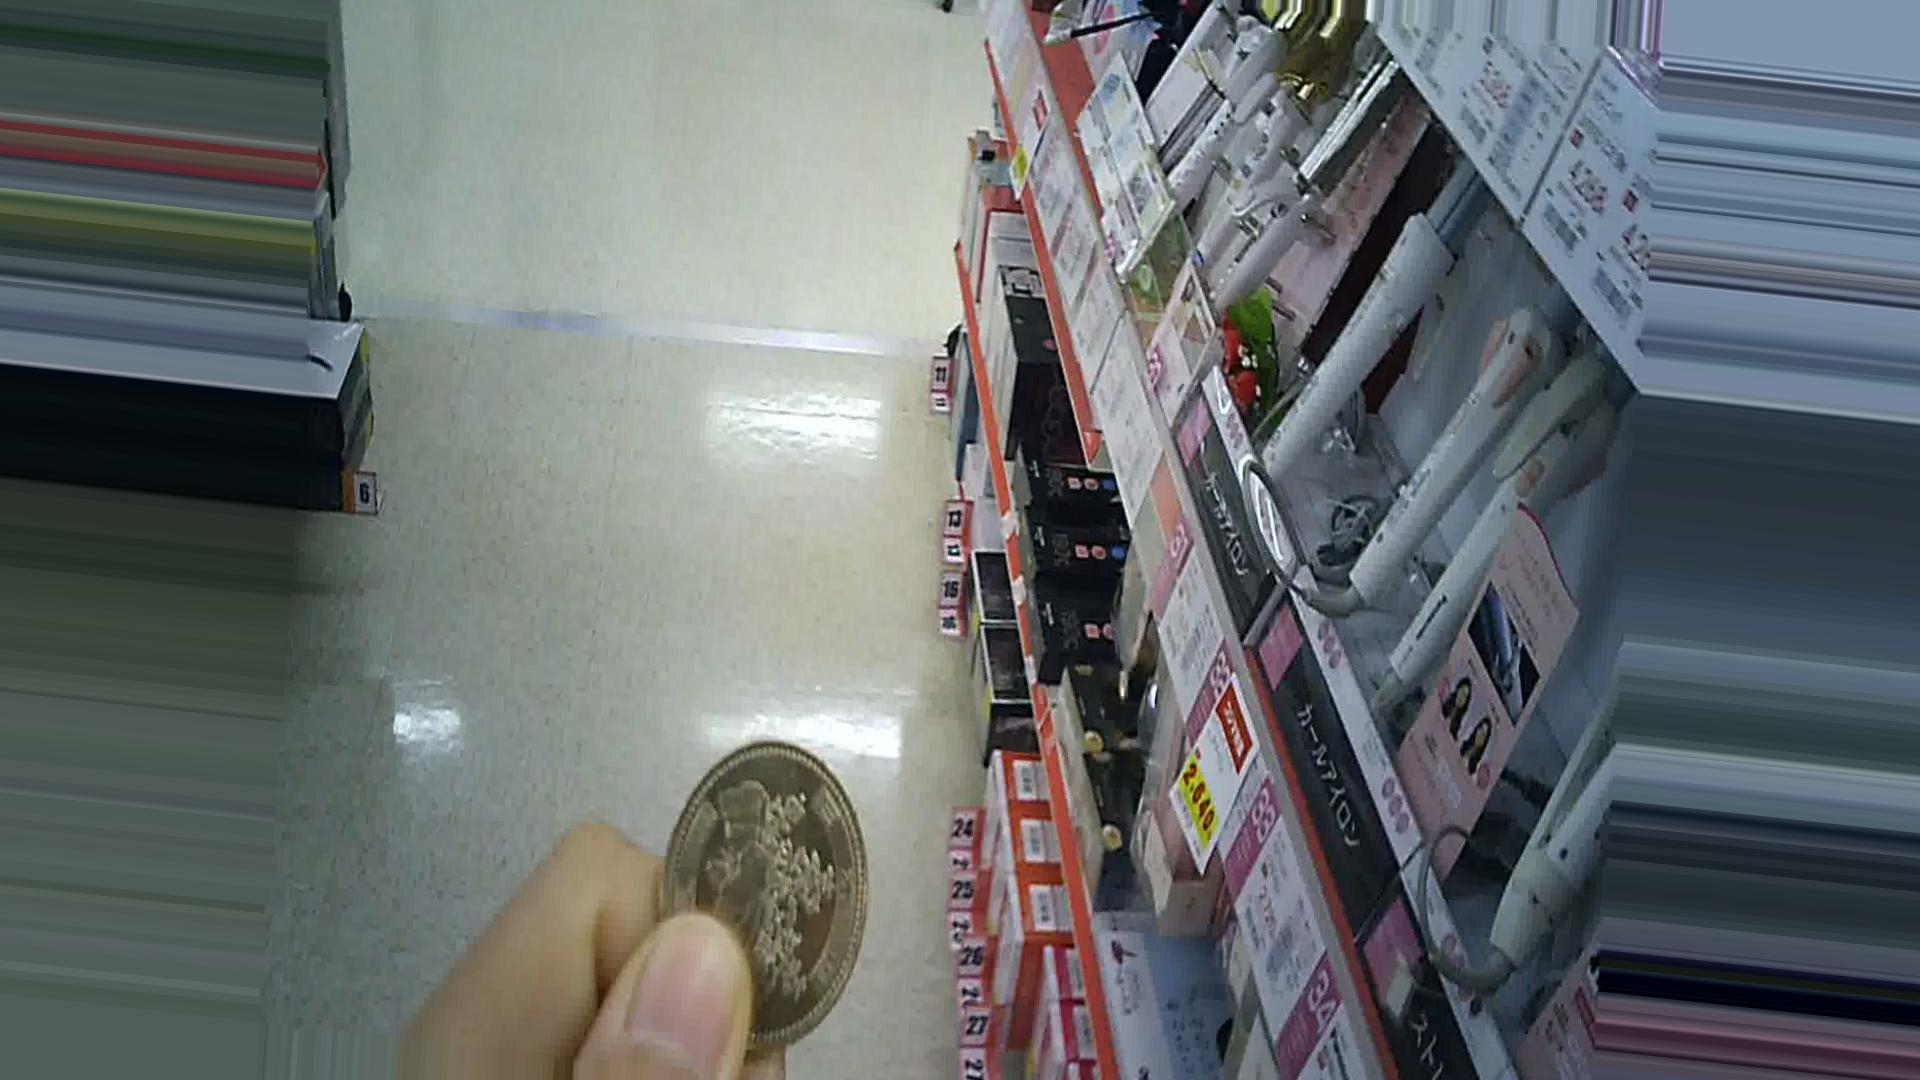500 Yen: (644, 736, 872, 1038)
